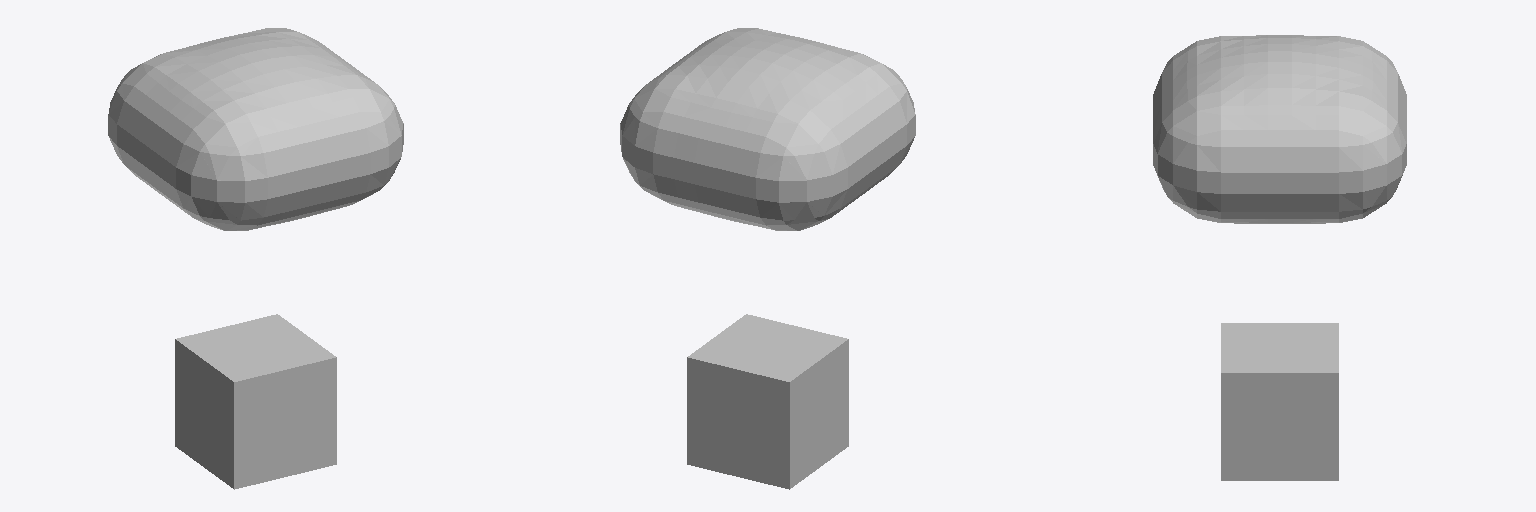
The model's file is perspective.obj.
3 renders of one model, left to right at view 1: azimuth 30°, elevation 25°; view 2: azimuth 150°, elevation 25°; view 3: azimuth 270°, elevation 25°, orthographic.
Parts seen in each view (by area): view 1: Mball_Meta, Cube; view 2: Mball_Meta, Cube; view 3: Mball_Meta, Cube.
Part boxes in pixels (bbox=[...]): Mball_Meta: bbox=[108, 28, 403, 230]; Cube: bbox=[175, 314, 336, 489]; Mball_Meta: bbox=[620, 28, 915, 230]; Cube: bbox=[687, 314, 848, 489]; Mball_Meta: bbox=[1153, 35, 1406, 223]; Cube: bbox=[1221, 323, 1338, 480].
Bounding box in the file's own units: 4.28 × 7.43 × 4.28.